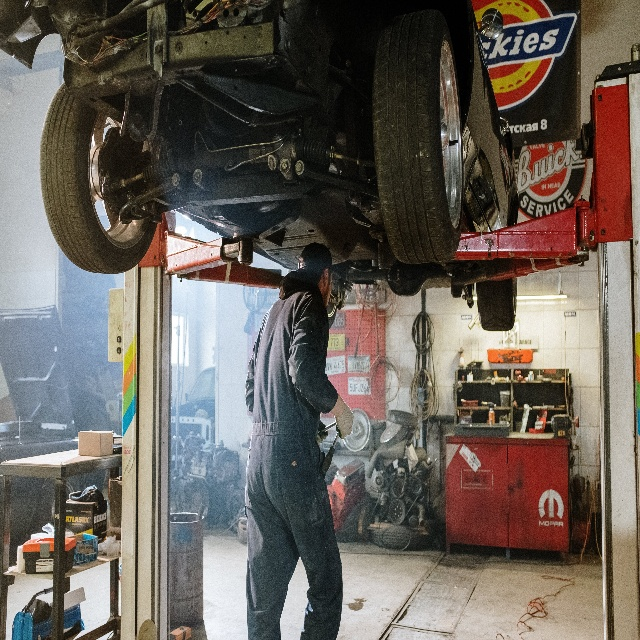Guantes: (335, 403, 354, 440), (316, 419, 328, 444)
